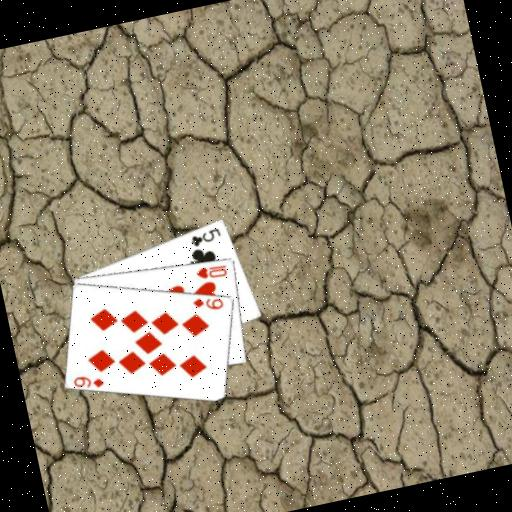10H: (192, 259, 229, 283)
5C: (187, 224, 224, 249)
9D: (189, 289, 226, 315), (70, 368, 107, 394)
